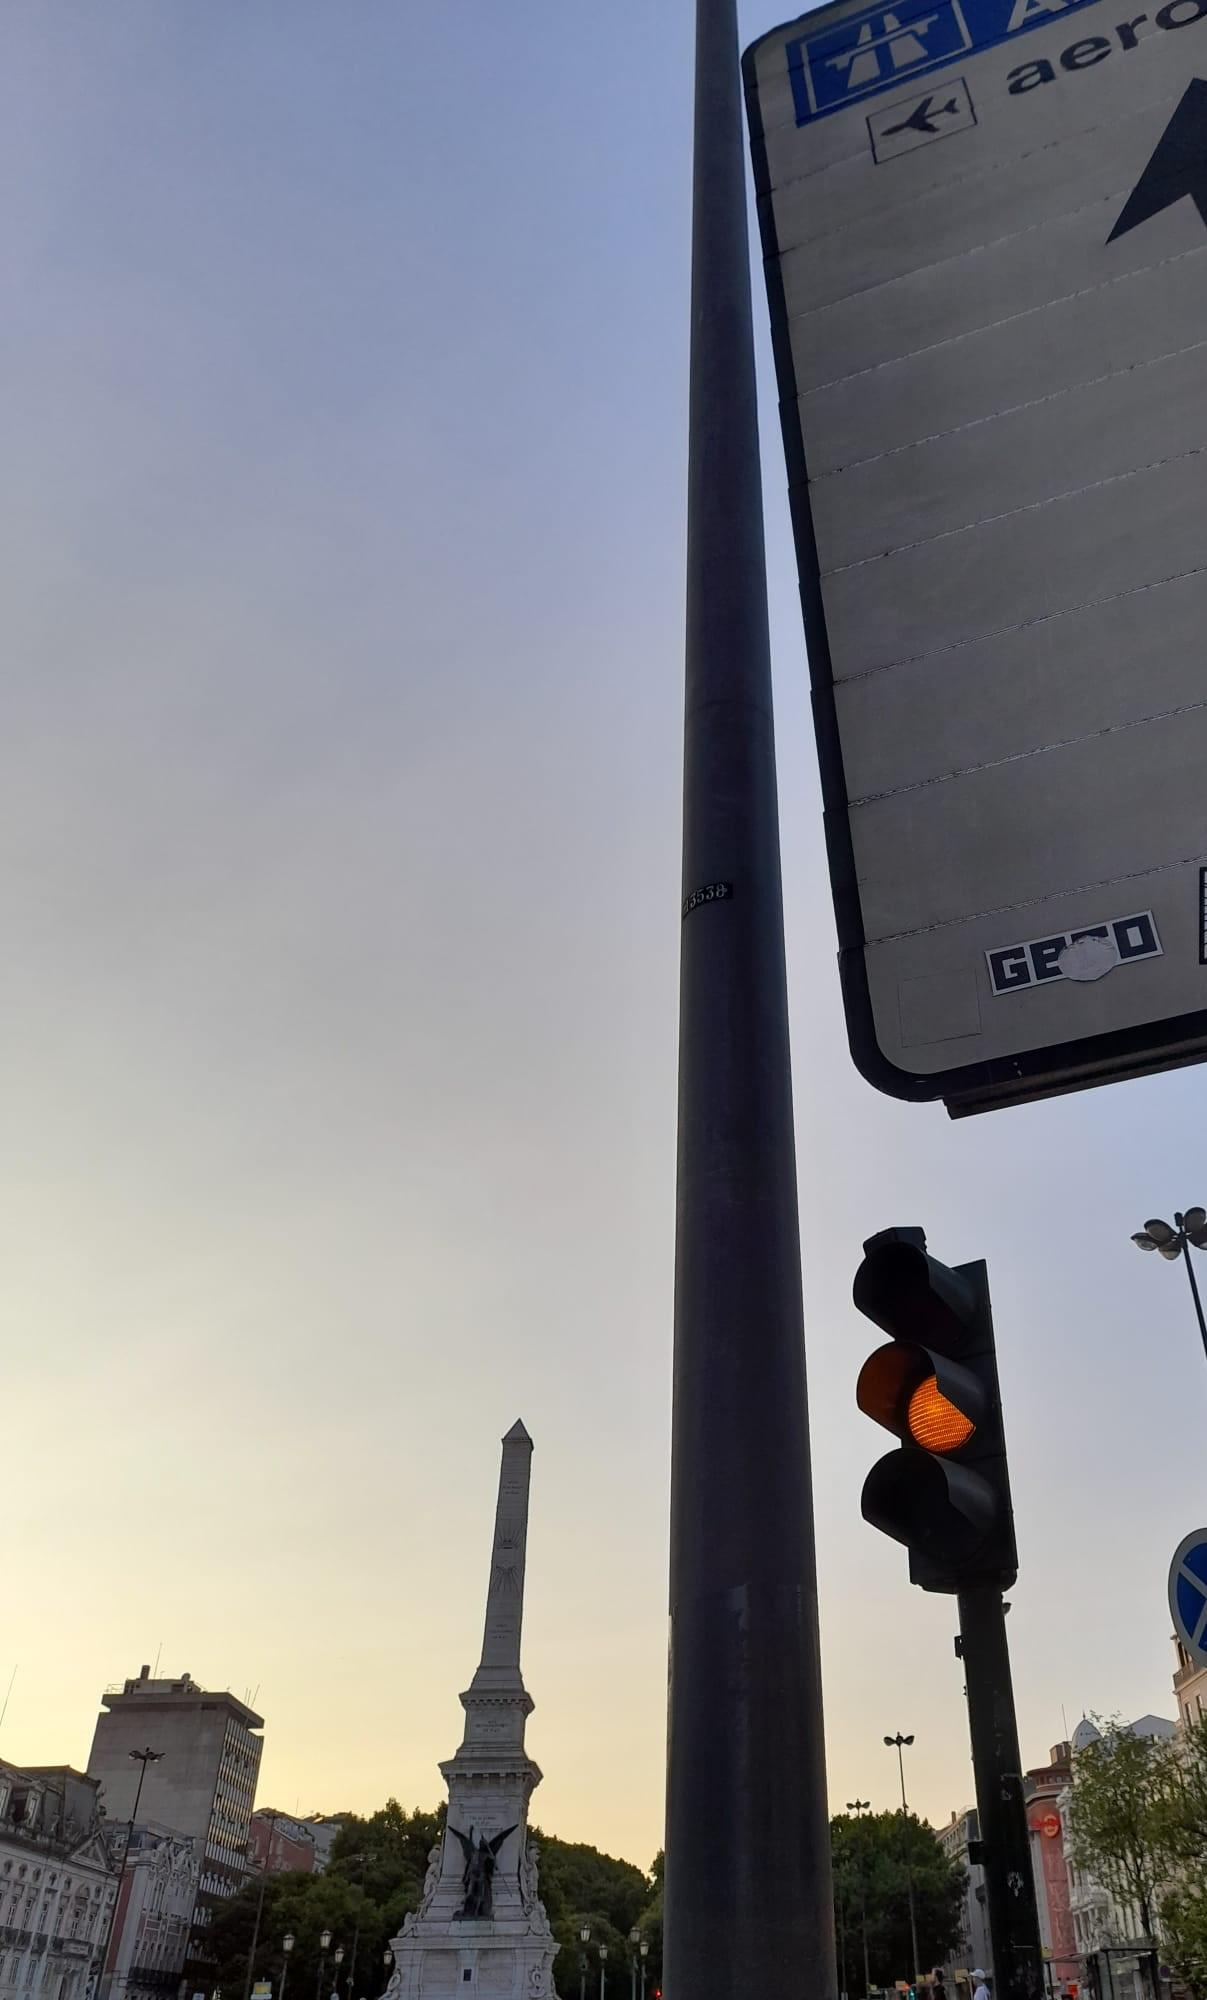yellow_light: (853, 1240, 1018, 1593)
